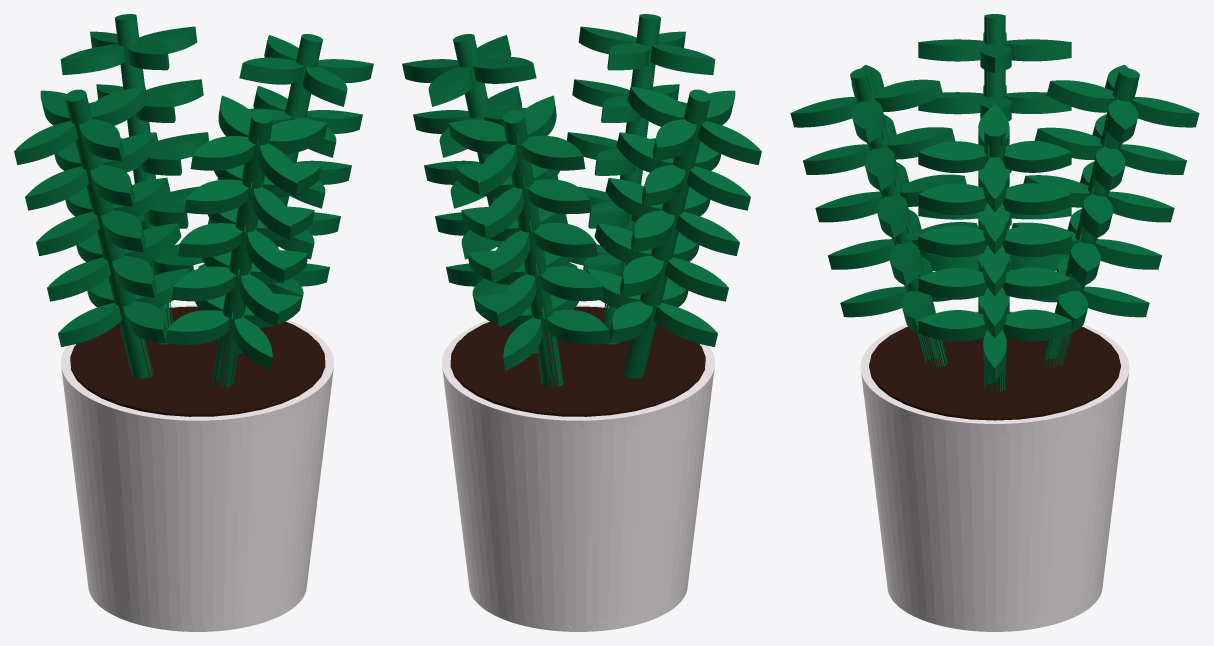
Rendered from plante.dae.
3 views of the same model, side by side, from view 1: azimuth 30°, elevation 25°; view 2: azimuth 150°, elevation 25°; view 3: azimuth 270°, elevation 25° (orthographic).
Parts seen in each view (by area): view 1: node0, node0.001, Cylinder; view 2: node0, node0.001, Cylinder; view 3: node0, node0.001, Cylinder.
Boxes of the visible parts, left/top/right/bottom form: node0: left=14, top=14, right=373, bottom=387; node0.001: left=61, top=305, right=333, bottom=631; Cylinder: left=70, top=306, right=325, bottom=416; node0: left=402, top=14, right=761, bottom=387; node0.001: left=442, top=305, right=714, bottom=631; Cylinder: left=450, top=306, right=705, bottom=416; node0: left=790, top=14, right=1199, bottom=391; node0.001: left=860, top=310, right=1129, bottom=631; Cylinder: left=869, top=312, right=1120, bottom=420.
Size of the model in its own units: 0.0761 by 0.0761 by 0.1055.
